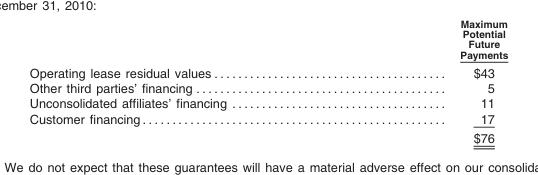table: (28, 29, 507, 144)
table column: (28, 29, 342, 144), (342, 29, 507, 144)
table column header: (28, 29, 507, 63)
table row: (28, 29, 507, 63), (28, 63, 507, 80), (28, 111, 507, 128), (28, 80, 507, 96), (28, 128, 507, 144), (28, 96, 507, 111)
